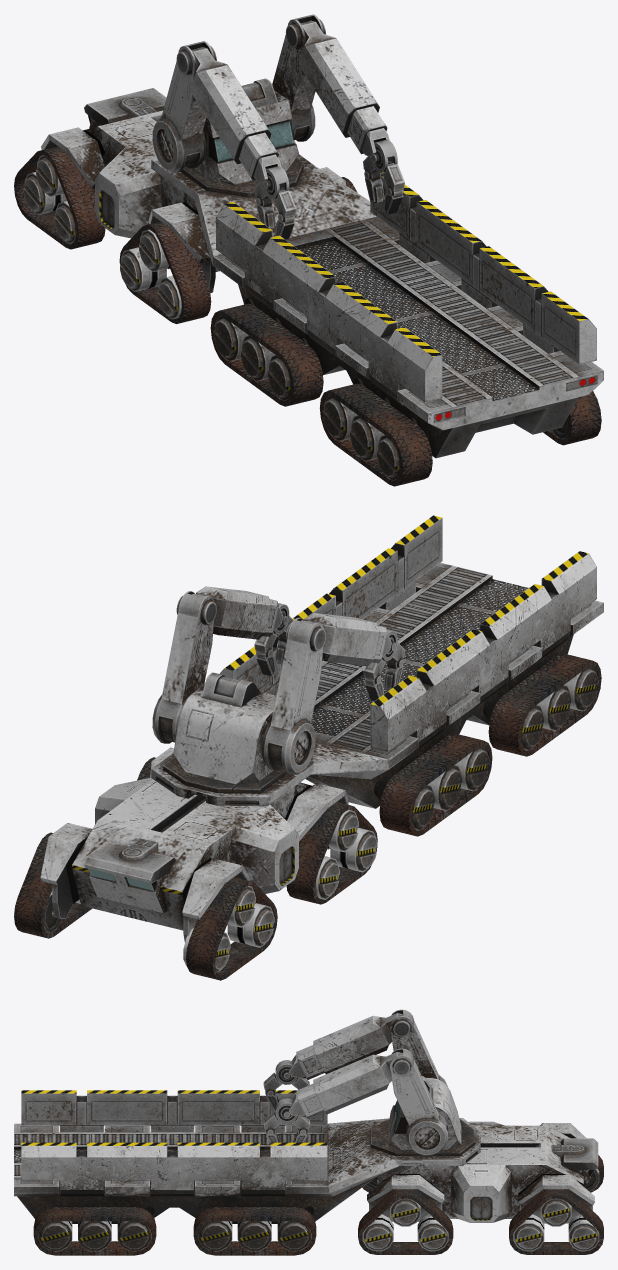
The model's file is Oppie.fbx.
3 views of the same model, one above another, from view 1: azimuth 30°, elevation 25°; view 2: azimuth 150°, elevation 25°; view 3: azimuth 270°, elevation 25° (orthographic). The views are drawn at different scales.
Visible parts, largest first — view 1: flatbed, lbedwall, rbedwall, body, trackl3, trackl4, larm1, larm2, rarm2, turret_1, trackl1, trackl2 (+19 smaller); view 2: flatbed, body, lbedwall, turret_1, rbedwall, larm1, rarm1, trackl4, trackl3, trackl1, trackl2, steerr (+15 smaller); view 3: flatbed, rbedwall, body, lbedwall, rarm1, rarm2, trackr3, trackr4, larm2, trackr2, trackr1, turret_1 (+19 smaller).
Boxes of the visible parts, x1=… form: flatbed: x1=151, y1=154, x2=603, y2=458; lbedwall: x1=216, y1=201, x2=442, y2=405; rbedwall: x1=370, y1=172, x2=596, y2=364; body: x1=83, y1=88, x2=345, y2=292; trackl3: x1=210, y1=303, x2=323, y2=406; trackl4: x1=319, y1=383, x2=432, y2=486; larm1: x1=152, y1=41, x2=216, y2=172; larm2: x1=190, y1=47, x2=271, y2=164; rarm2: x1=298, y1=20, x2=379, y2=137; turret_1: x1=194, y1=78, x2=298, y2=184; trackl1: x1=14, y1=146, x2=105, y2=249; trackl2: x1=119, y1=221, x2=211, y2=323; flatbed: x1=151, y1=562, x2=603, y2=808; body: x1=72, y1=747, x2=348, y2=930; lbedwall: x1=370, y1=551, x2=596, y2=752; turret_1: x1=173, y1=672, x2=276, y2=784; rbedwall: x1=220, y1=515, x2=442, y2=695; larm1: x1=261, y1=617, x2=326, y2=774; rarm1: x1=152, y1=591, x2=216, y2=743; trackl4: x1=488, y1=653, x2=601, y2=756; trackl3: x1=379, y1=733, x2=492, y2=836; trackl1: x1=186, y1=877, x2=277, y2=980; trackl2: x1=286, y1=802, x2=377, y2=904; steerr: x1=40, y1=823, x2=92, y2=919; flatbed: x1=14, y1=1118, x2=480, y2=1223; rbedwall: x1=21, y1=1142, x2=327, y2=1196; body: x1=367, y1=1121, x2=598, y2=1222; lbedwall: x1=21, y1=1090, x2=327, y2=1132; rarm1: x1=389, y1=1048, x2=447, y2=1155; rarm2: x1=313, y1=1052, x2=402, y2=1114; trackr3: x1=193, y1=1207, x2=316, y2=1255; trackr4: x1=33, y1=1207, x2=156, y2=1255; larm2: x1=313, y1=1013, x2=402, y2=1074; trackr2: x1=358, y1=1189, x2=453, y2=1254; trackr1: x1=509, y1=1189, x2=603, y2=1254; turret_1: x1=388, y1=1076, x2=461, y2=1149.
Bounding box in the file's own units: 1593 × 5446 × 1908.
Materials: 1 (1 with a texture image).
